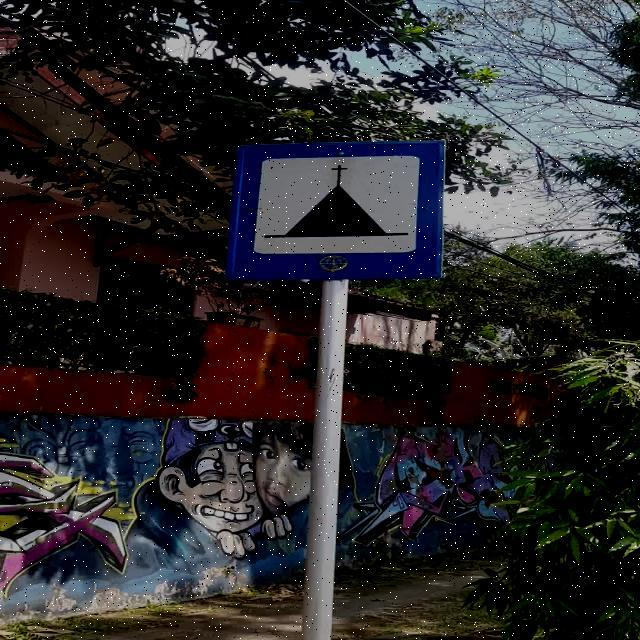Gereja: (226, 141, 443, 279)
